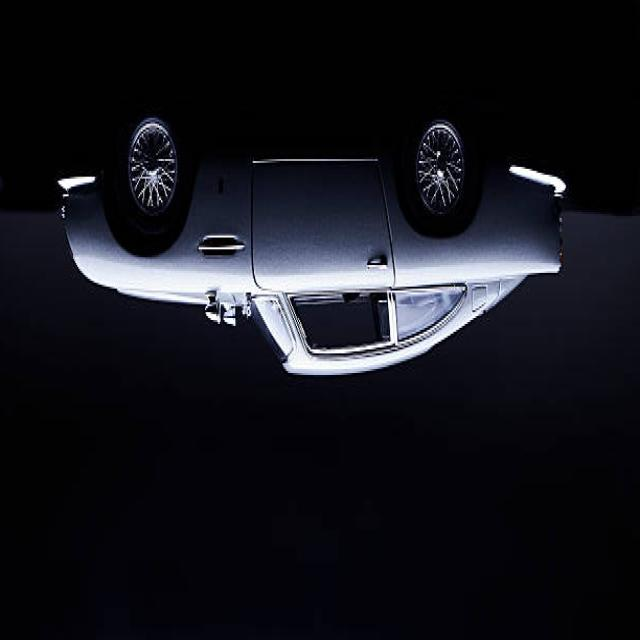Car: (55, 106, 568, 379)
